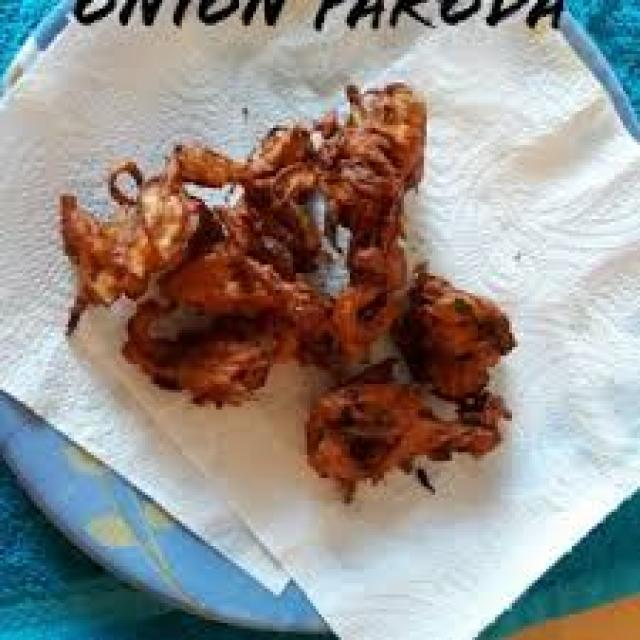BAJI: (324, 88, 432, 360), (312, 371, 514, 491), (139, 261, 309, 398), (61, 176, 190, 336), (205, 129, 330, 281), (405, 282, 513, 404)
